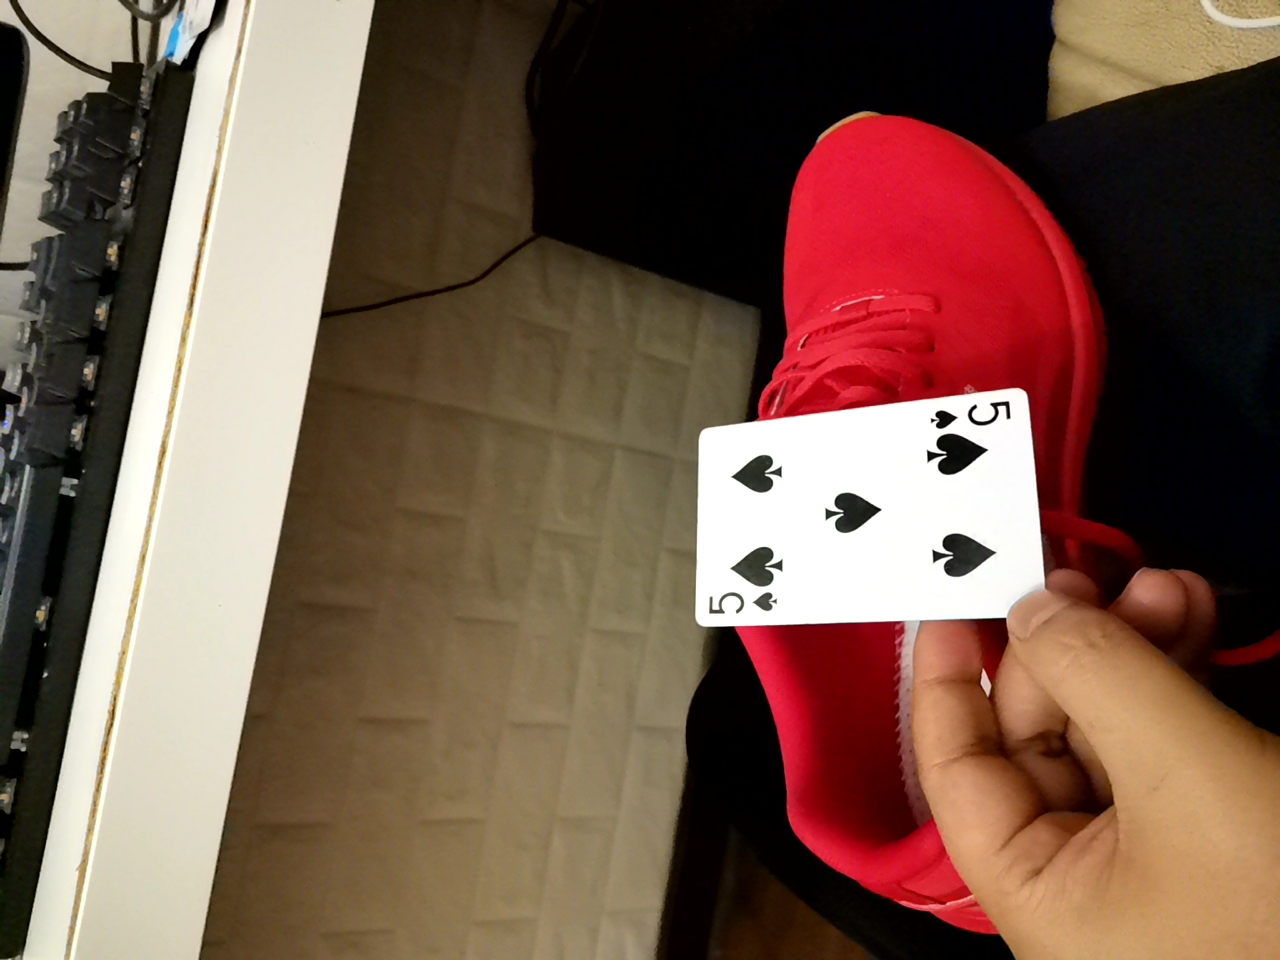ht 5: (686, 392, 1053, 627)
